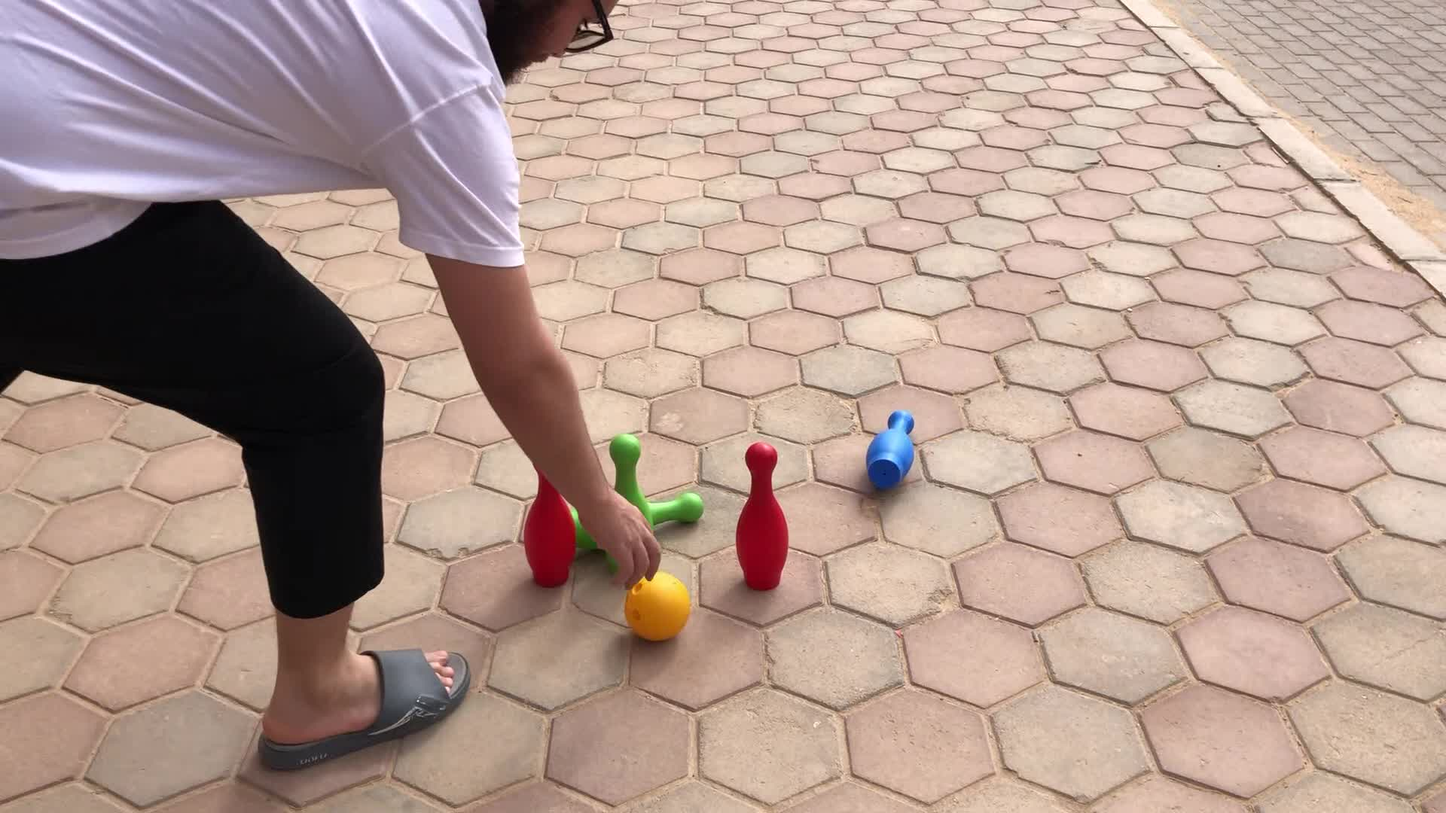bowling-pin: (737, 442, 789, 589), (524, 489, 575, 586), (870, 412, 918, 490)
